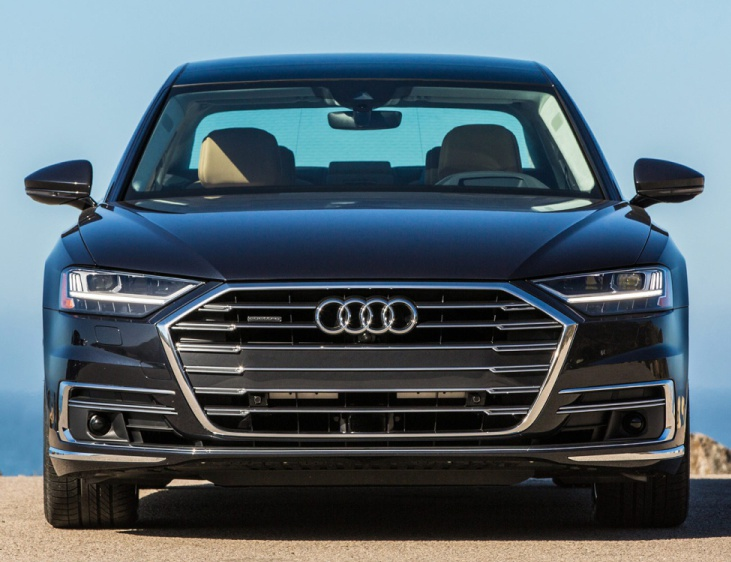audi: (307, 296, 425, 341)
